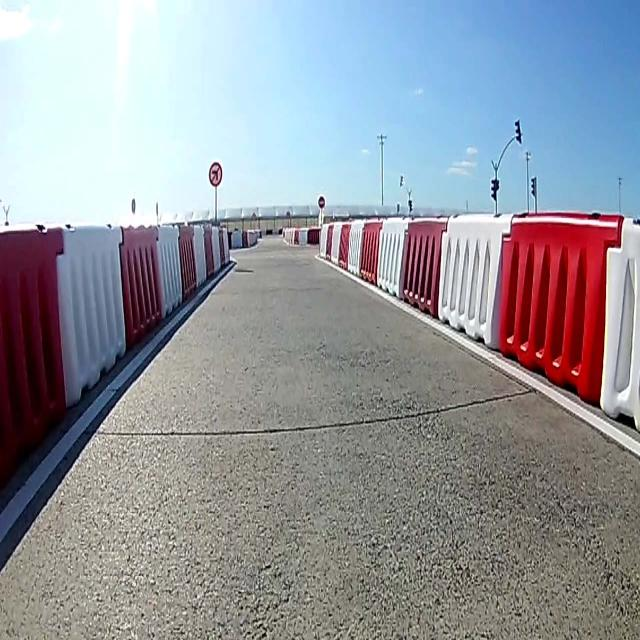girisyok: (318, 195, 324, 209)
soladonulmez: (209, 161, 223, 187)
